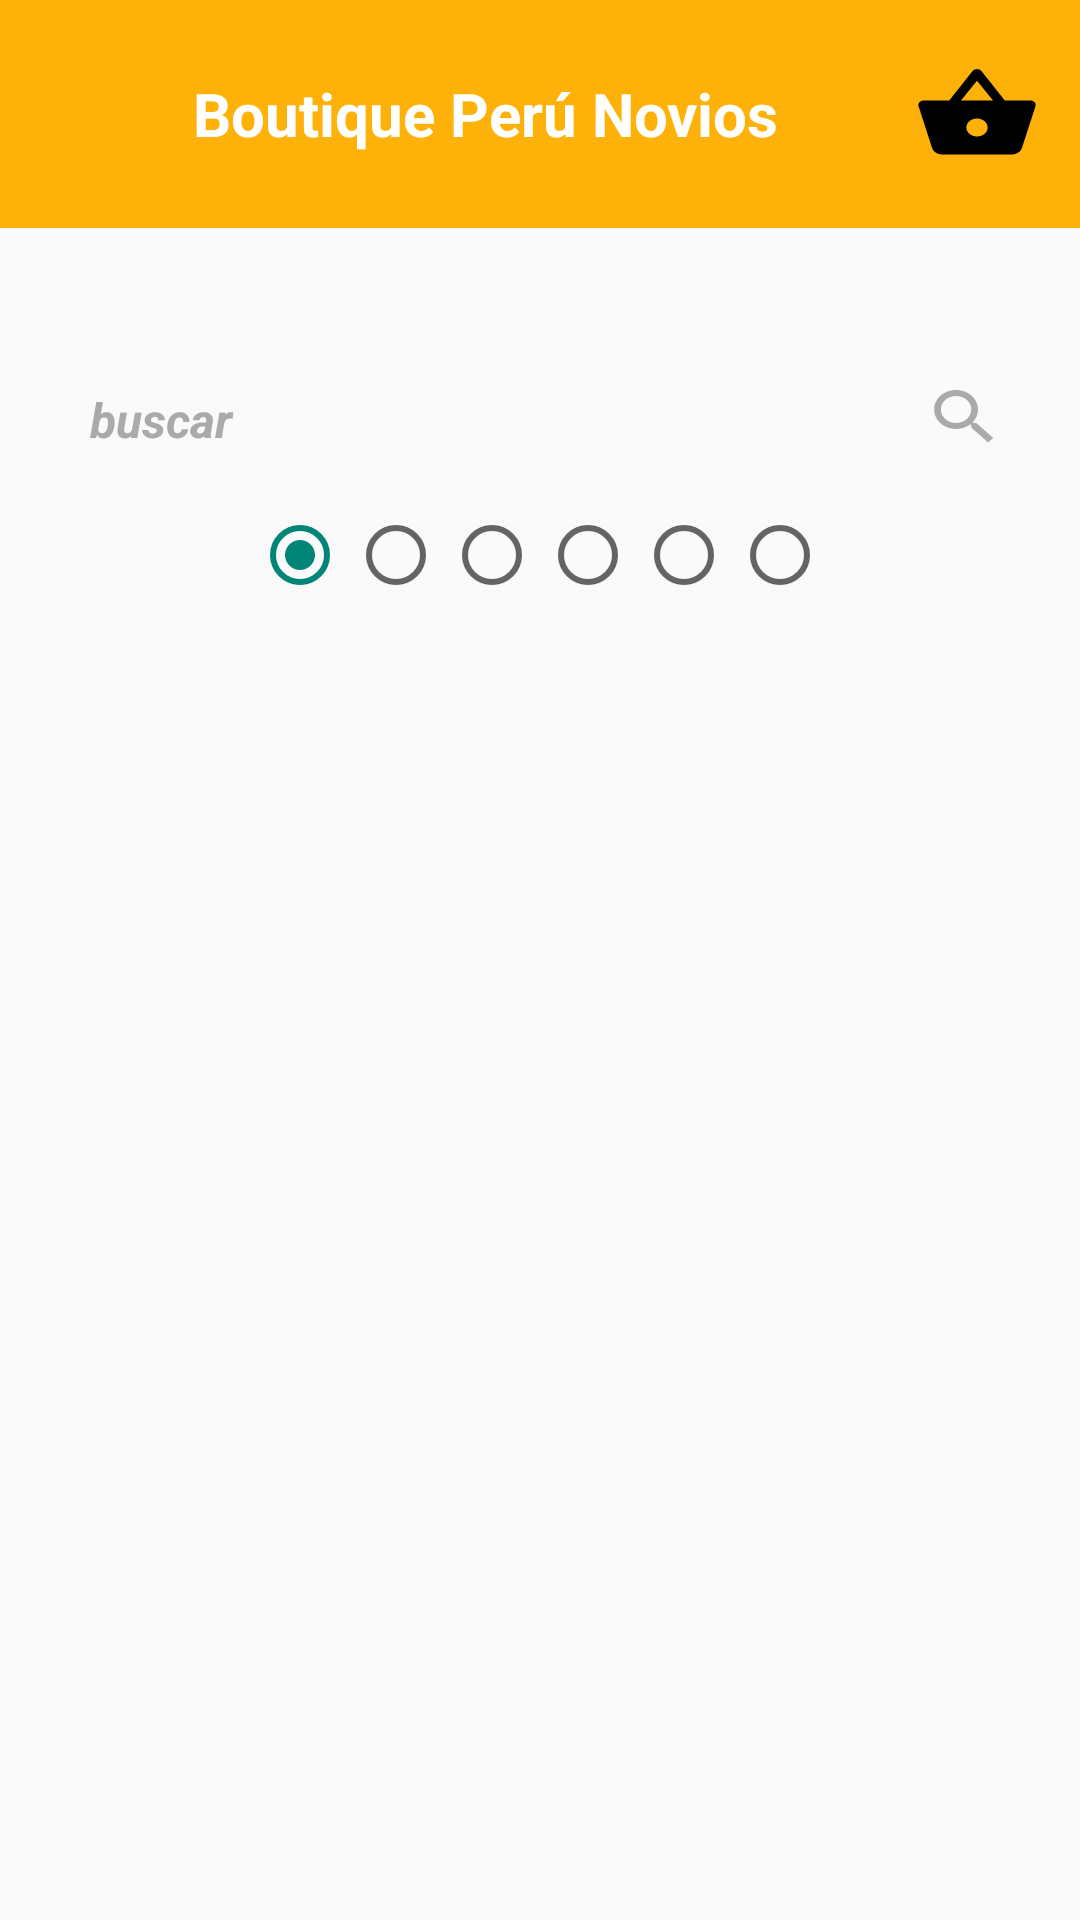

Icons on this 1080 × 1920 Android screen, each with its box as (left=x1, top=y1, right=x2, bottom=y2):
shopping basket: (left=918, top=69, right=1036, bottom=155)
